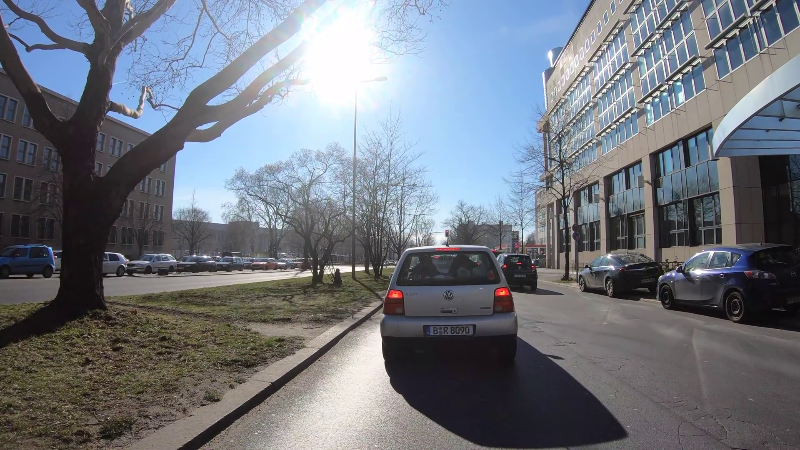Plate: (421, 325, 475, 335), (639, 277, 654, 283), (512, 274, 526, 278)
